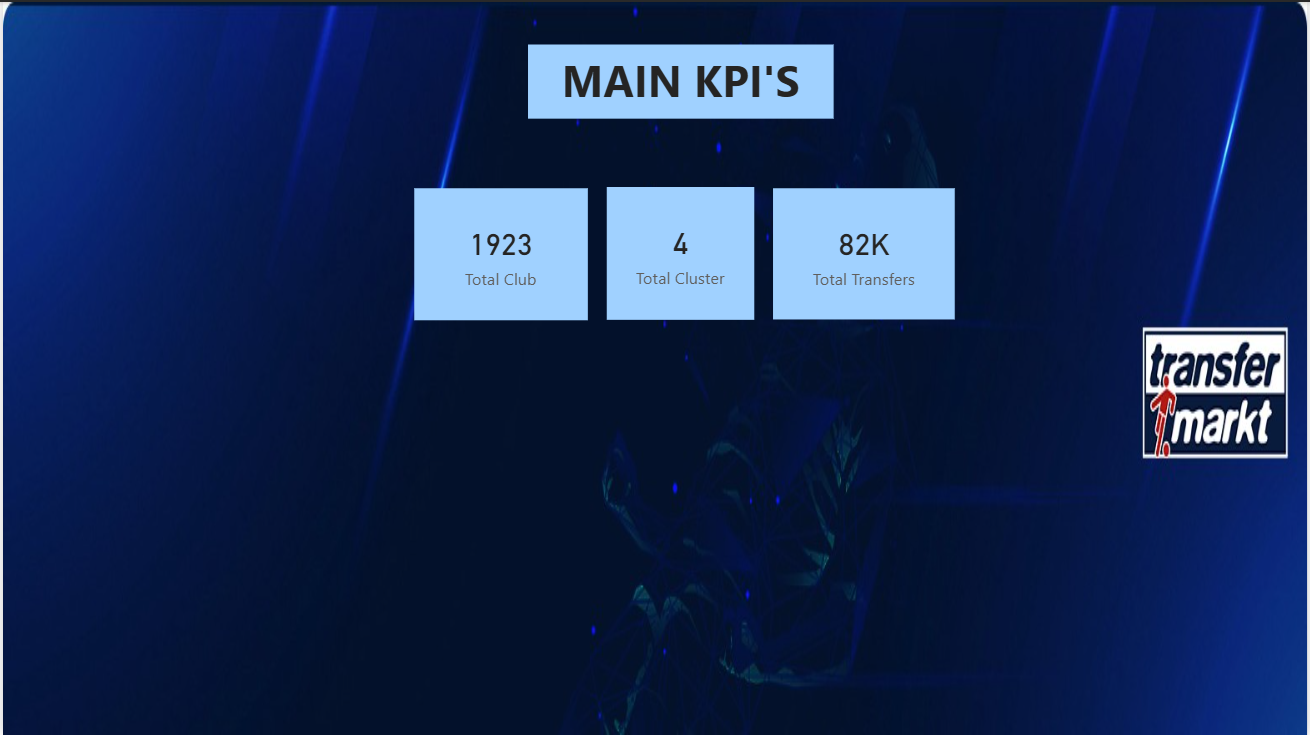

The dashboard page shown, as its layout file describes it:
{"tool":"powerbi","page":{"name":"Main KPI's","canvas":[1280,720],"ordinal":0},"visuals":[{"type":"card","fields":{"Values":["Count(Cluster.to_club_name)"]},"box":[404.3,182.9,170.4,129.4],"z":0},{"type":"card","fields":{"Values":["Count(Cluster.cluster)"]},"box":[592.5,181.2,145,130],"z":1000},{"type":"card","fields":{"Values":["Sum(Cluster.transfer_count)"]},"box":[756.2,182.5,178.8,128.8],"z":2000},{"type":"textbox","box":[515,41.2,300,72.5],"z":3000}]}

Visuals, with their boxes in screenshot pixels (x1, y1, x2, y2), scaled from the page's 1280x720 canvas onto the 1310x735 screenshot:
card - Count(Cluster.to_club_name): 414:187:588:319
card - Count(Cluster.cluster): 606:185:755:318
card - Sum(Cluster.transfer_count): 774:186:957:318
textbox: 527:42:834:116
